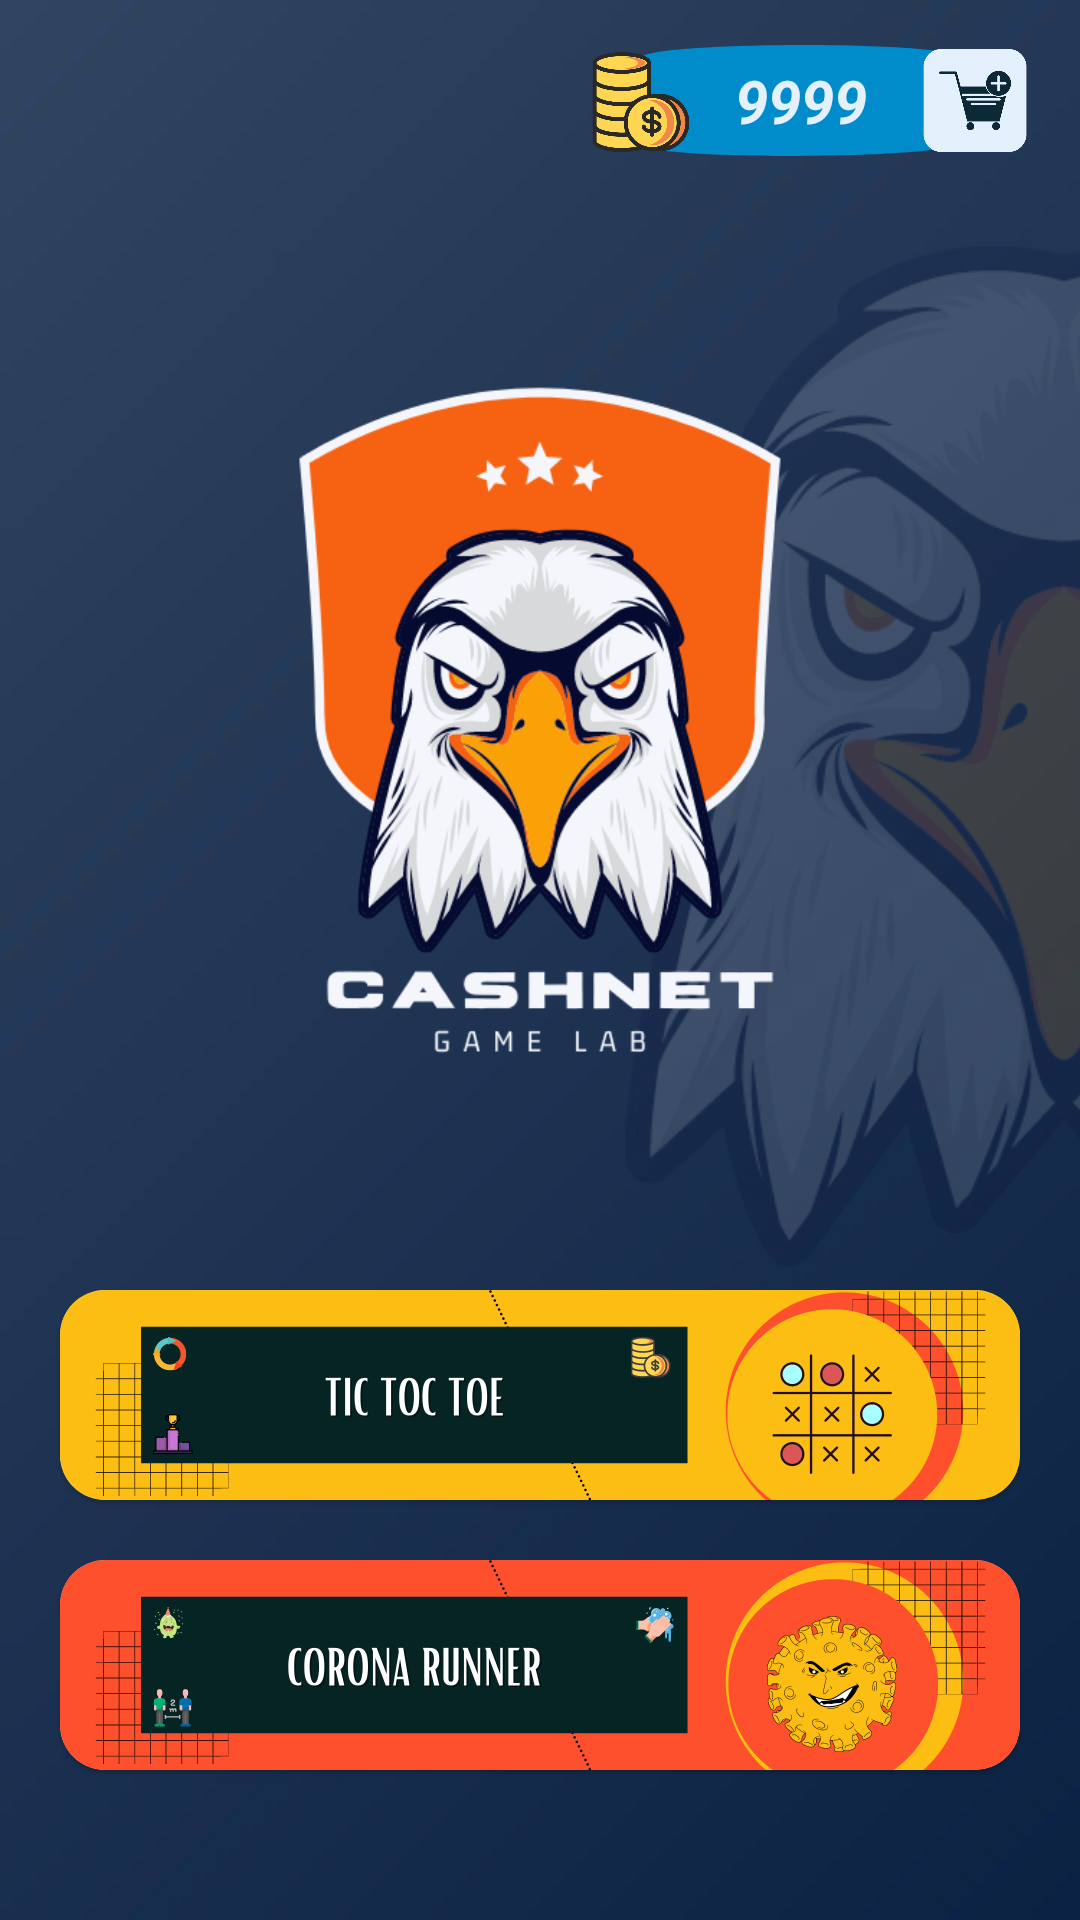

Icon click points for this 1080px x 1920px phone screenshot, format point (x, y):
add cart: point (971, 100)
